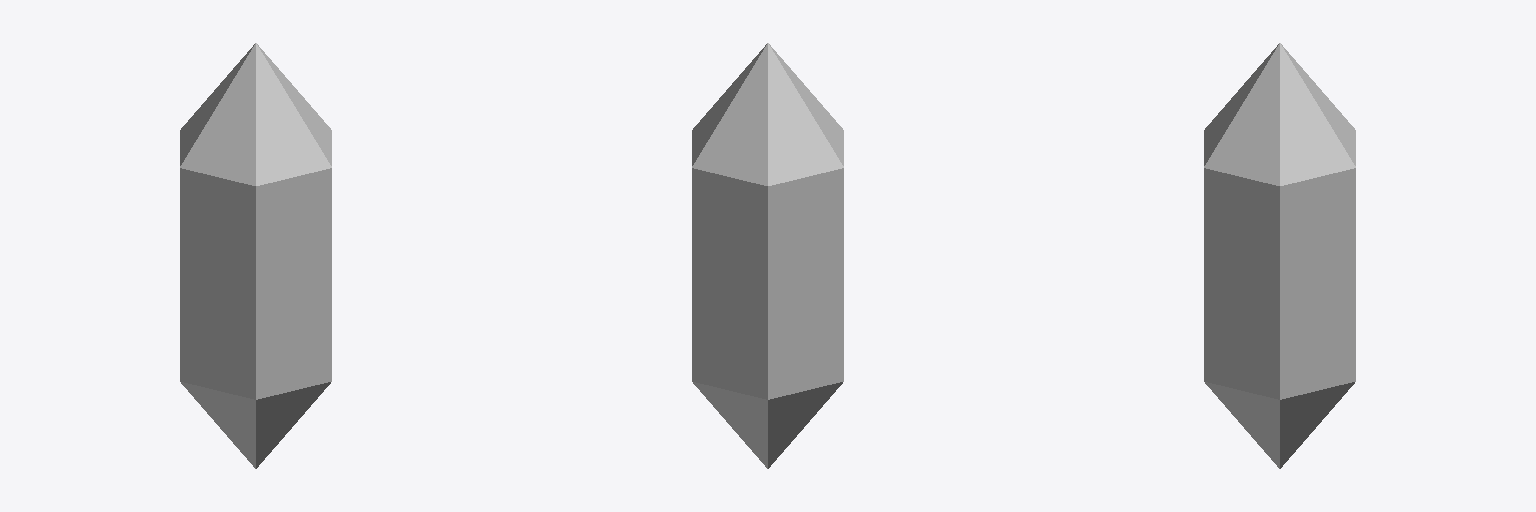
The model's file is crystal_embedded.obj.
The picture shows the model from 3 angles: view 1: azimuth 30°, elevation 25°; view 2: azimuth 150°, elevation 25°; view 3: azimuth 270°, elevation 25°; orthographic projection.
Parts seen in each view (by area): view 1: Sphere_Sphere.001; view 2: Sphere_Sphere.001; view 3: Sphere_Sphere.001.
Part boxes in pixels (x1,y1,x2,y2): Sphere_Sphere.001: (180, 43, 331, 468); Sphere_Sphere.001: (692, 43, 843, 468); Sphere_Sphere.001: (1204, 43, 1355, 468).
Size of the model in its own units: 0.3175 by 0.8479 by 0.275.